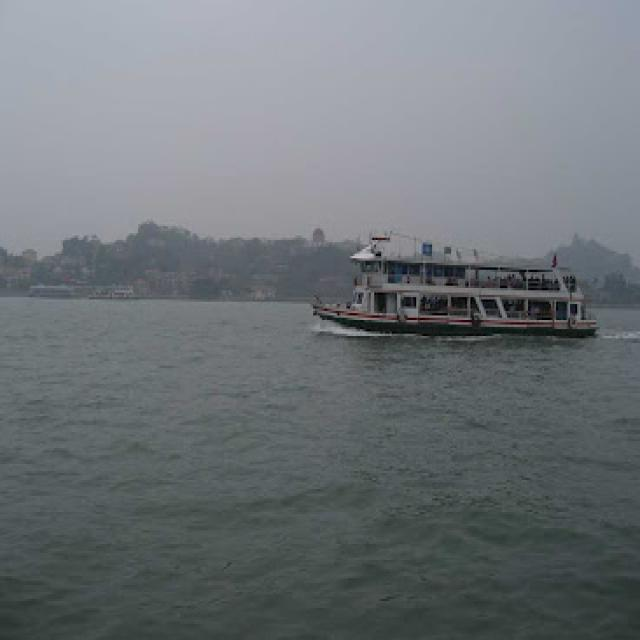passenger ship: (315, 220, 590, 351)
